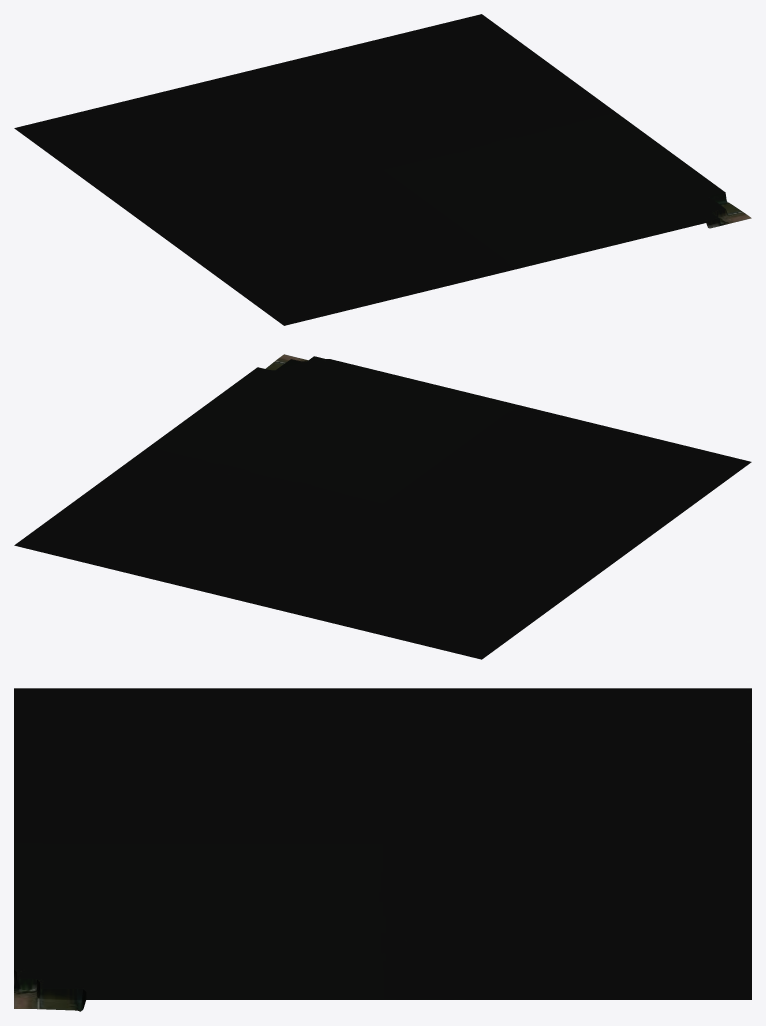
Rendered from map_10_249_430.dae.
The picture shows the model from 3 angles, top to bottom: view 1: azimuth 30°, elevation 25°; view 2: azimuth 150°, elevation 25°; view 3: azimuth 270°, elevation 25°; orthographic projection. The views are drawn at different scales.
Parts seen in each view (by area): view 1: Ter0; view 2: Ter0; view 3: Ter0.
Boxes of the visible parts, box(x1,y1,x2,y2) form: Ter0: box(14, 14, 751, 325); Ter0: box(14, 354, 751, 659); Ter0: box(14, 688, 751, 1011).
Size of the model in its own units: 2044 by 2044 by 35.8.
3 materials, 3 textured.
